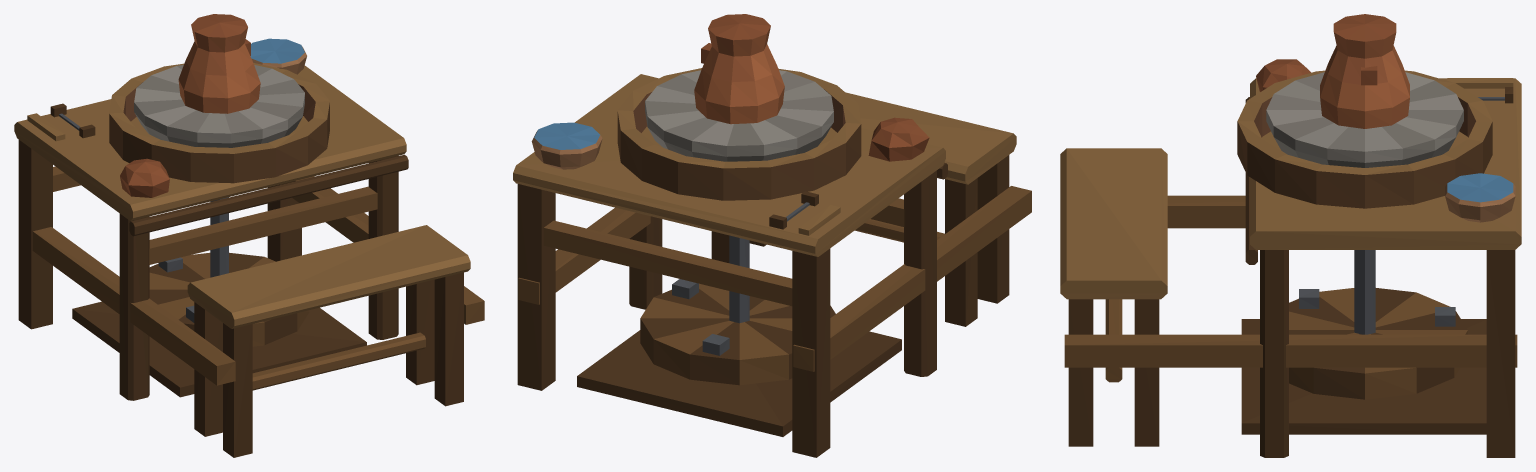
Rendered from potter.obj.
3 views of the same model, side by side, from view 1: azimuth 30°, elevation 25°; view 2: azimuth 150°, elevation 25°; view 3: azimuth 270°, elevation 25° (orthographic). The views are drawn at different scales.
Visible parts, largest first — view 1: potter, pottery_plate; view 2: potter, pottery_plate; view 3: potter, pottery_plate.
Boxes of the visible parts, x1,y1,x2,y2 form: potter: (14, 38, 484, 457); pottery_plate: (134, 14, 309, 346); potter: (513, 68, 1031, 457); pottery_plate: (640, 14, 835, 385); potter: (1060, 59, 1521, 457); pottery_plate: (1266, 14, 1467, 399).
Bounding box in the file's own units: 88 × 96 × 112.
